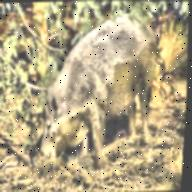boar: (32, 10, 168, 173)
